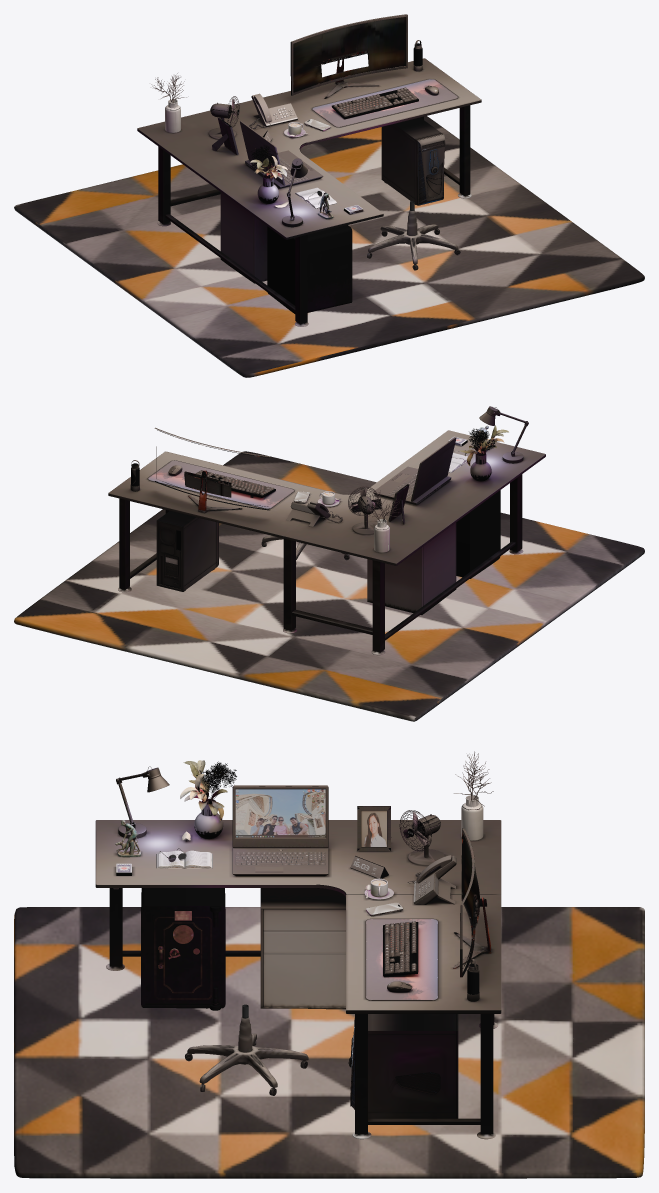
File: DarkOffice2nd.glb
3 renders of one model, top to bottom at view 1: azimuth 30°, elevation 25°; view 2: azimuth 150°, elevation 25°; view 3: azimuth 270°, elevation 25°, orthographic. The views are drawn at different scales.
Visible parts, largest first — view 1: PictureFrame_Baked, PlantPot_Baked; view 2: PictureFrame_Baked, PlantPot_Baked; view 3: PictureFrame_Baked, PlantPot_Baked.
Boxes of the visible parts, x1,y1,x2,y2 form: PictureFrame_Baked: (14, 14, 644, 377); PlantPot_Baked: (250, 145, 288, 207); PictureFrame_Baked: (14, 406, 644, 721); PlantPot_Baked: (460, 425, 508, 481); PictureFrame_Baked: (14, 751, 644, 1178); PlantPot_Baked: (180, 760, 236, 840).
Bounding box in the file's own units: 2.67 × 1.04 × 2.67.
29 materials, 29 textured.
